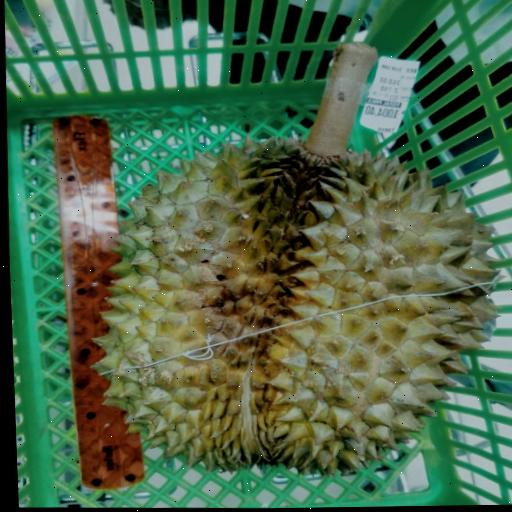rot: (25, 3, 512, 512)
